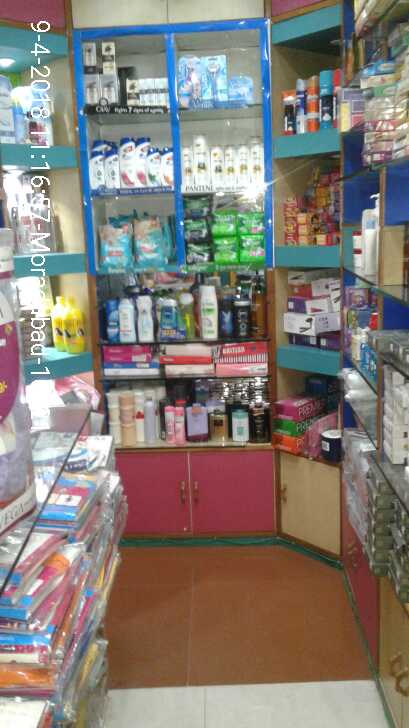gillete: (321, 69, 334, 129), (306, 75, 320, 128), (282, 89, 296, 133), (296, 78, 305, 134), (334, 69, 339, 128)
venus: (177, 55, 201, 107), (203, 55, 226, 102), (227, 75, 254, 102)
